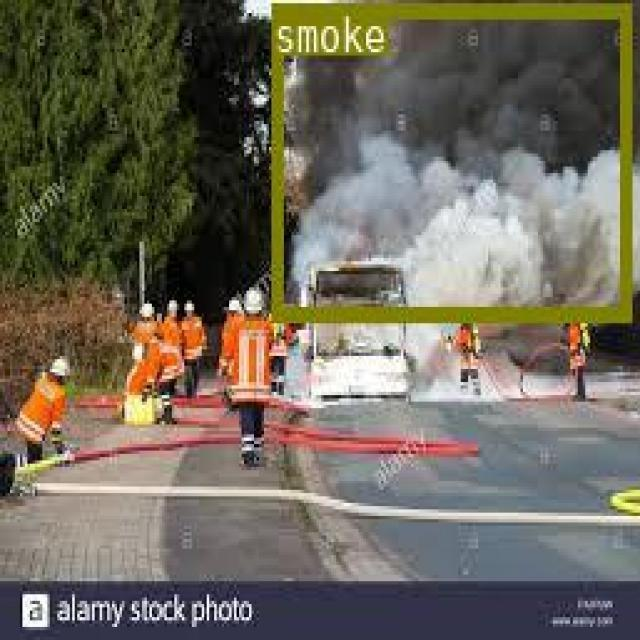smoke: (269, 3, 629, 319)
